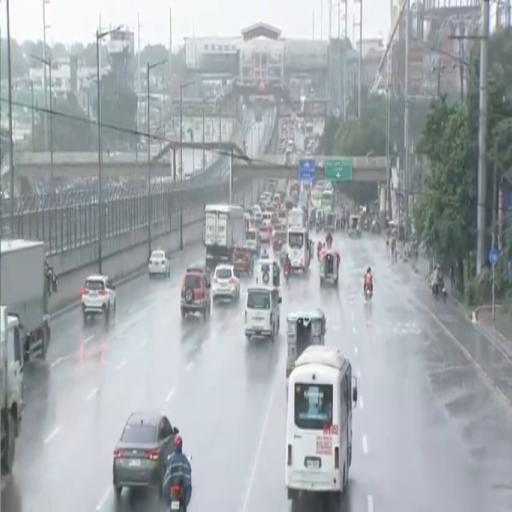car: (113, 412, 178, 498), (245, 286, 281, 342), (81, 275, 116, 323), (181, 265, 211, 318), (212, 264, 240, 300), (149, 249, 170, 277)
jeepney: (286, 309, 326, 379)
motorcycle: (170, 486, 186, 511), (171, 486, 185, 511), (432, 281, 447, 301), (283, 263, 290, 282), (365, 285, 372, 300)
truck: (0, 239, 56, 361), (0, 306, 23, 475), (204, 204, 245, 269), (287, 207, 305, 229)
